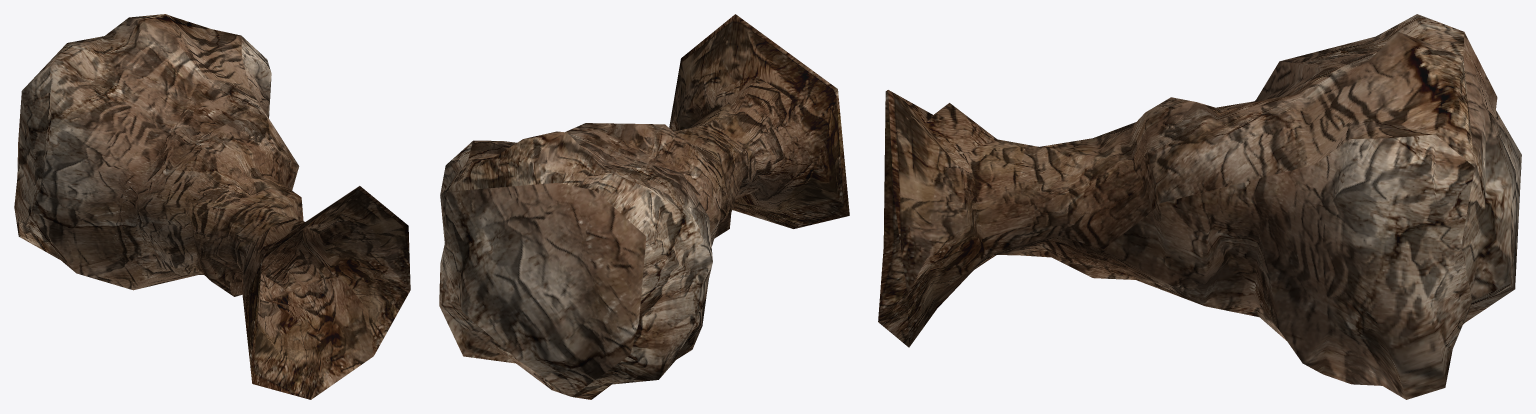
Rendered from MEP_DesertCliff_06.fbx.
3 views of the same model, side by side, from view 1: azimuth 30°, elevation 25°; view 2: azimuth 150°, elevation 25°; view 3: azimuth 270°, elevation 25° (orthographic). The views are drawn at different scales.
Visible parts, largest first — view 1: MEP_Desert_Cliff_06; view 2: MEP_Desert_Cliff_06; view 3: MEP_Desert_Cliff_06.
Boxes of the visible parts, bbox=[...] form: MEP_Desert_Cliff_06: bbox=[14, 14, 410, 399]; MEP_Desert_Cliff_06: bbox=[439, 14, 849, 399]; MEP_Desert_Cliff_06: bbox=[878, 14, 1521, 399].
Size of the model in its own units: 10.89 by 10.71 by 18.94.
